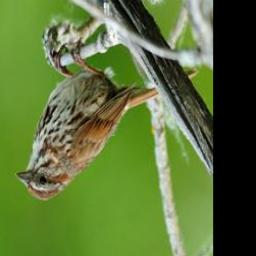Sparrow: (13, 38, 198, 203)
